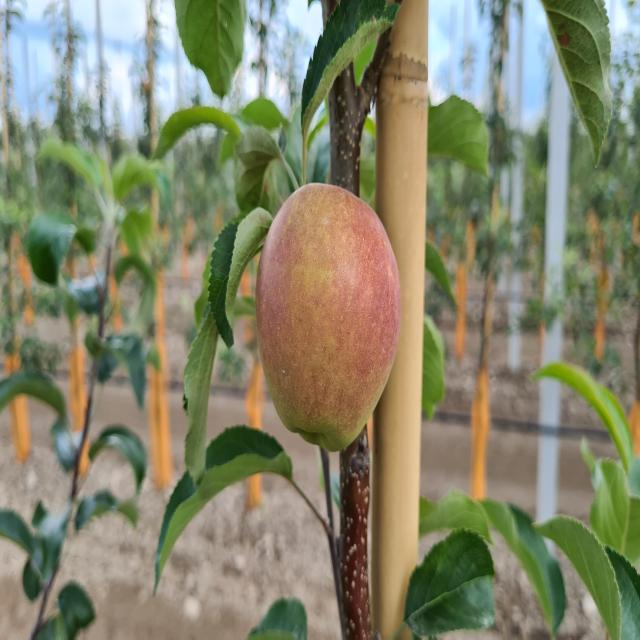Apple: (256, 184, 401, 451)
